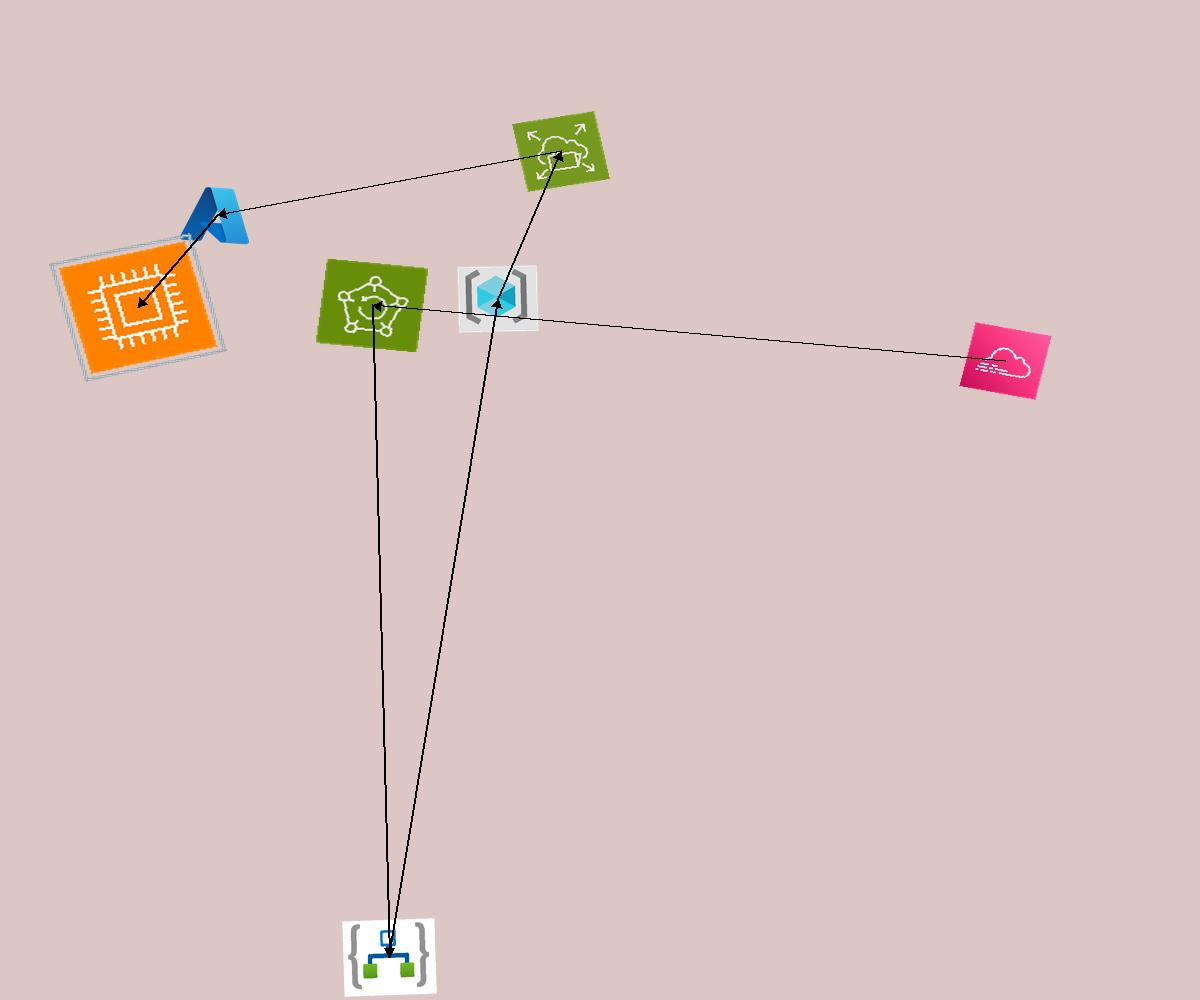AWS-Backup: (315, 258, 429, 353)
AWS-Category_Compute: (49, 233, 227, 382)
AWS-CloudTrail: (959, 322, 1052, 400)
AWS-EFS: (512, 111, 610, 192)
Azure_integration-204-Logic-Apps: (342, 918, 437, 997)
Azure_resource_group: (457, 265, 539, 333)
Azure_services: (176, 181, 258, 249)
